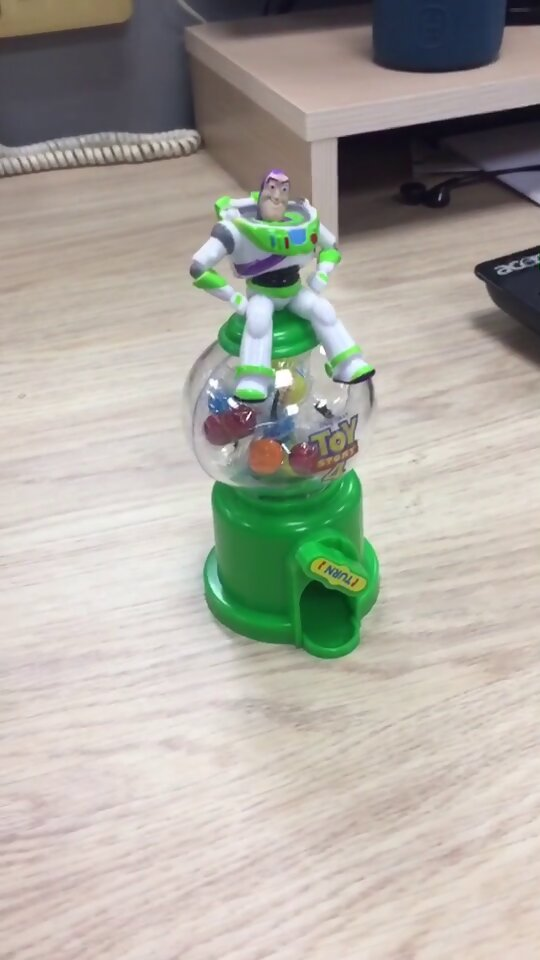buzz: (174, 162, 388, 661)
